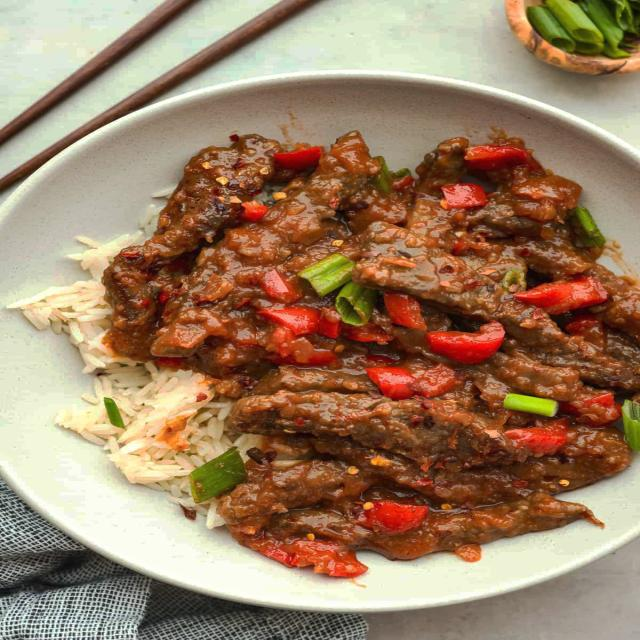Beijing Beef: (100, 128, 638, 578)
rice: (14, 248, 107, 352), (98, 365, 190, 467)
